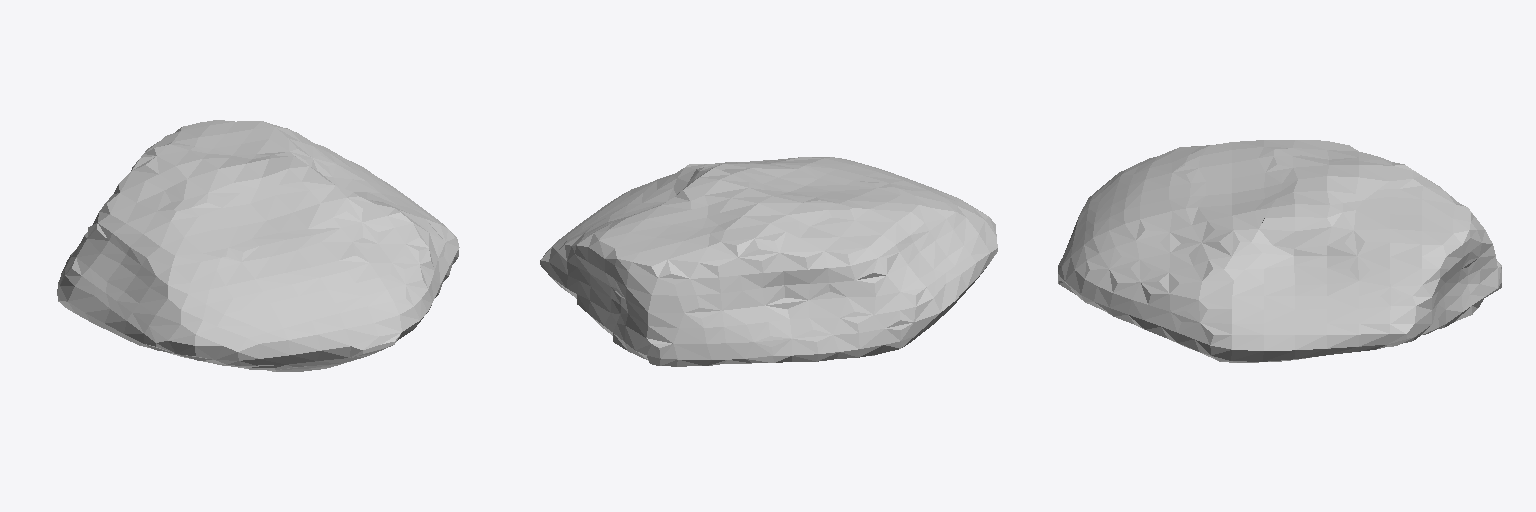
The model's file is BigRock.obj.
The picture shows the model from 3 angles: view 1: azimuth 30°, elevation 25°; view 2: azimuth 150°, elevation 25°; view 3: azimuth 270°, elevation 25°; orthographic projection.
Visible parts, largest first — view 1: BigRock_Cube.002; view 2: BigRock_Cube.002; view 3: BigRock_Cube.002.
Boxes of the visible parts, <box> form: BigRock_Cube.002: <box>57,120,459,371</box>; BigRock_Cube.002: <box>540,157,997,366</box>; BigRock_Cube.002: <box>1058,140,1501,362</box>.
Bounding box in the file's own units: 1.63 × 0.6315 × 1.74.